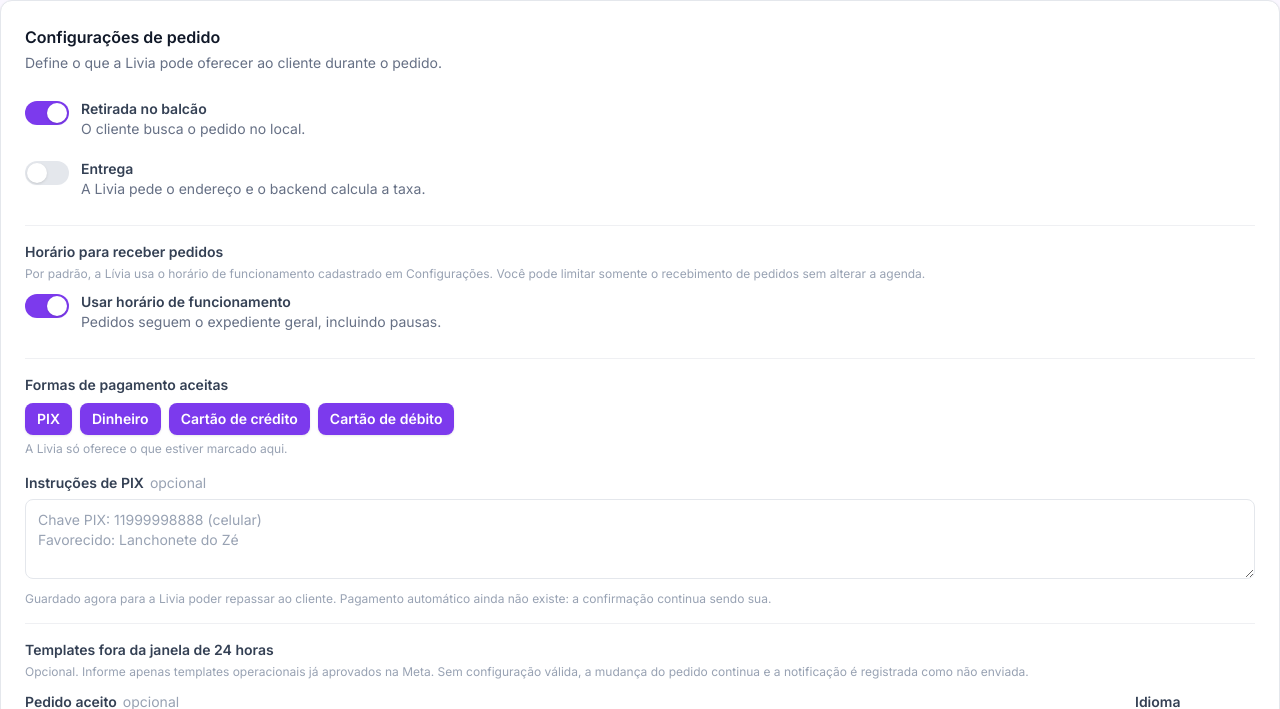
Scenario: OrderSettingsEditor (tela) › campos de entrega só aparecem com entrega ligada
The width and height of the screenshot is (1280, 709).
Expected: the text "Configurações de pedido" is shown, [25,27,220,47]
Expected: the text "Taxa de entrega" is not shown
Click the checkbox labelled "Entrega A Livia pede o endereço e o backend calcula a taxa.": (225, 178) [25,160,425,197]
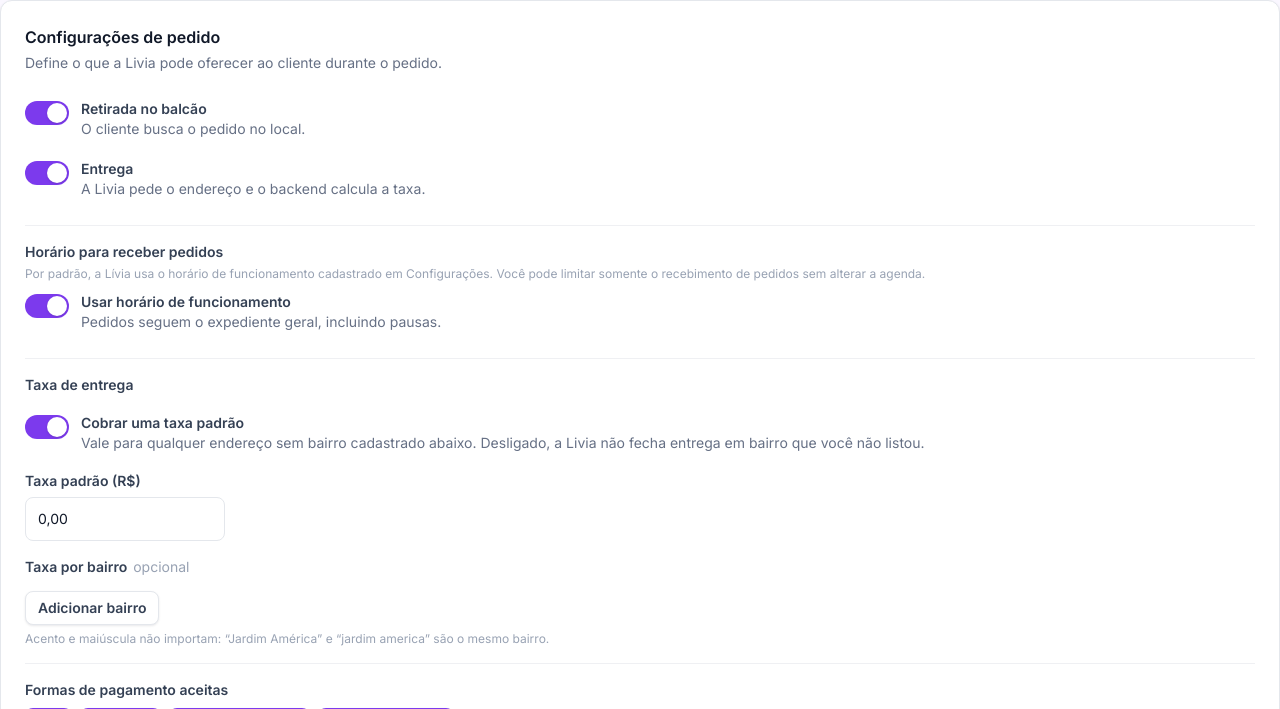
Result: the text "Taxa de entrega" is shown at [25,376,133,393]
